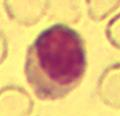lymphocyte: (21, 22, 90, 102)
